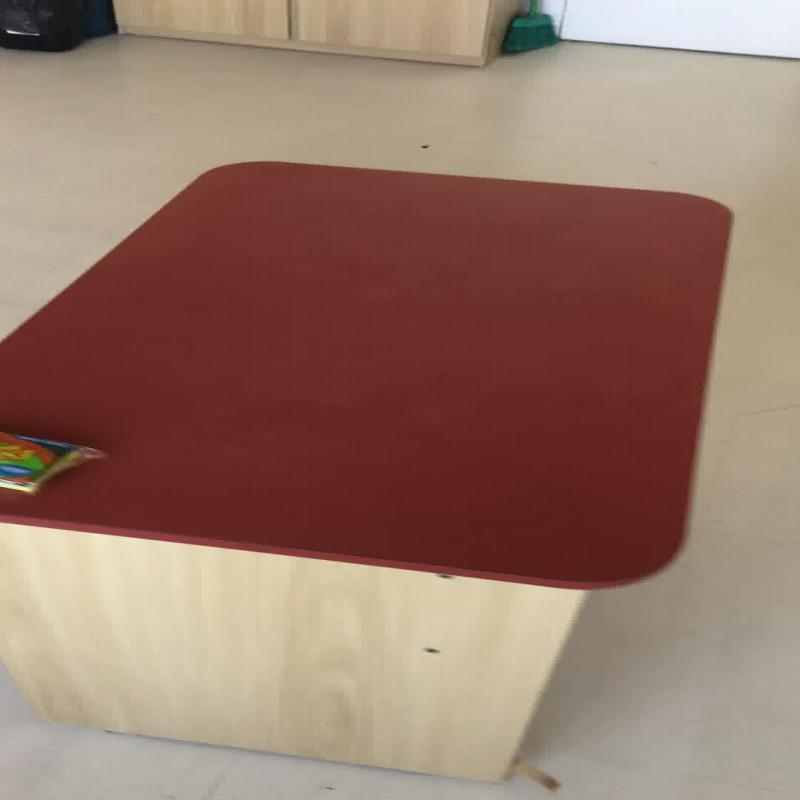sponge: (0, 158, 732, 782), (0, 429, 107, 495), (499, 0, 559, 53)
